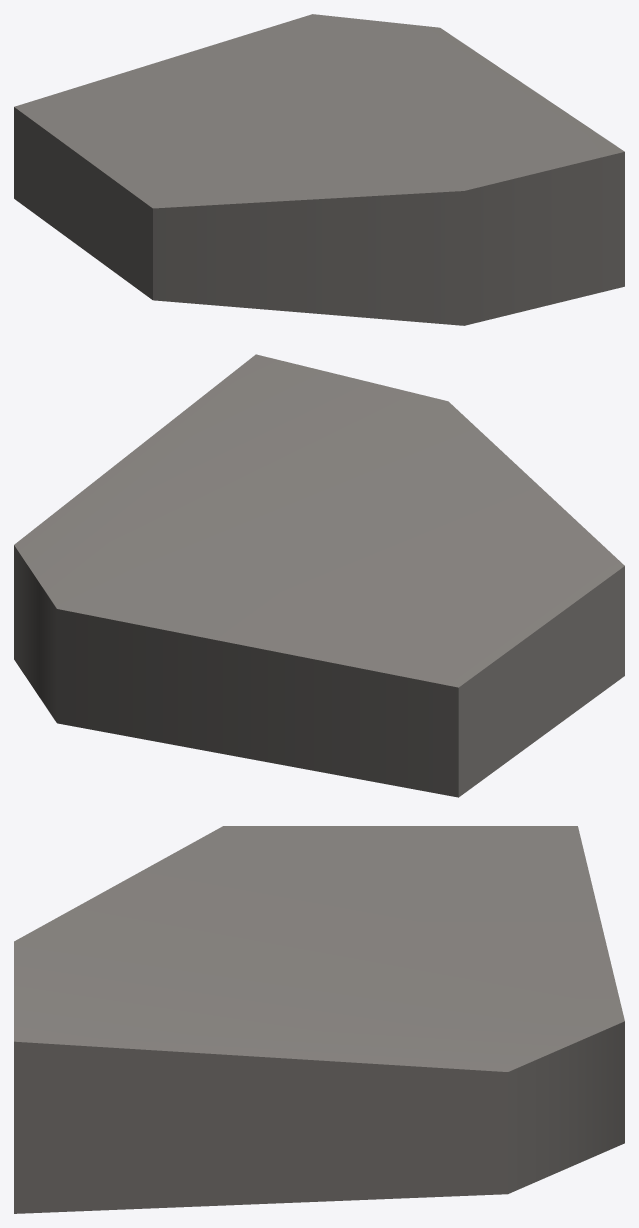
File: SA_FX_Rubble.fbx
The picture shows the model from 3 angles, top to bottom: view 1: azimuth 30°, elevation 25°; view 2: azimuth 150°, elevation 25°; view 3: azimuth 270°, elevation 25°; orthographic projection. The views are drawn at different scales.
Parts seen in each view (by area): view 1: SA_FX_Rubble; view 2: SA_FX_Rubble; view 3: SA_FX_Rubble.
Part boxes in pixels (bbox=[...]): SA_FX_Rubble: bbox=[14, 14, 624, 325]; SA_FX_Rubble: bbox=[14, 354, 624, 797]; SA_FX_Rubble: bbox=[14, 826, 624, 1213].
Size of the model in its own units: 1.94 by 0.626 by 2.01.
